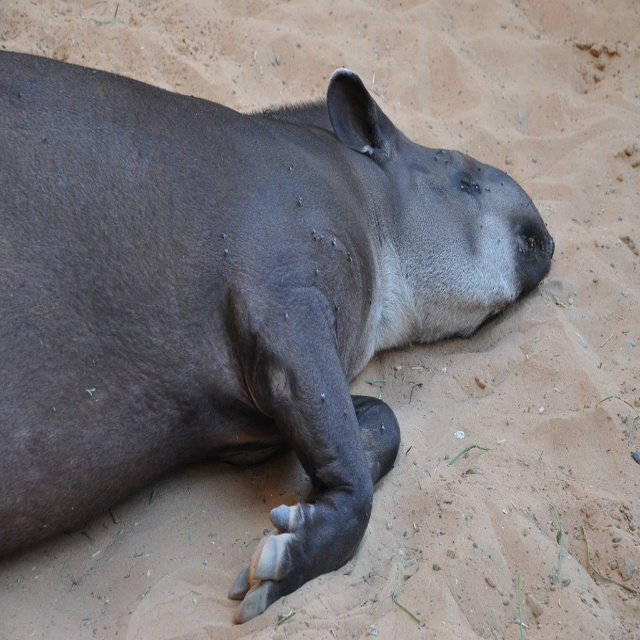Harbor seal: (0, 51, 566, 624)
